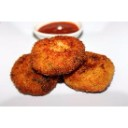cutlet: (12, 53, 56, 96), (69, 51, 114, 91), (32, 40, 85, 72)
